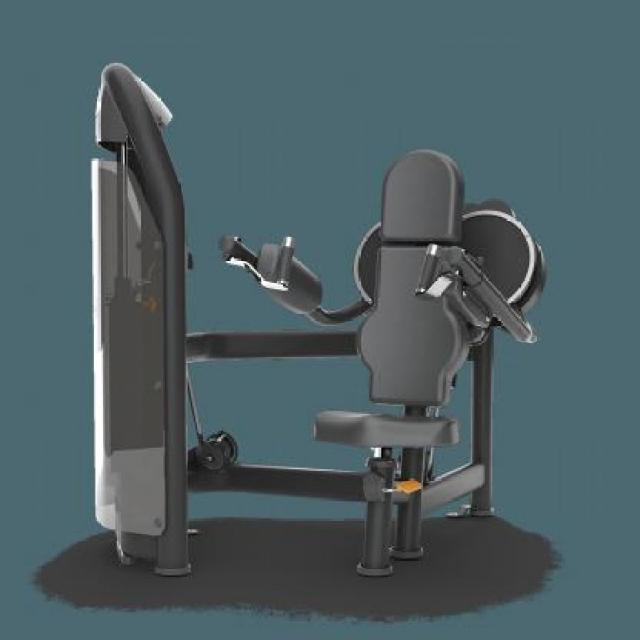lateral raises machine: (94, 63, 549, 583)
